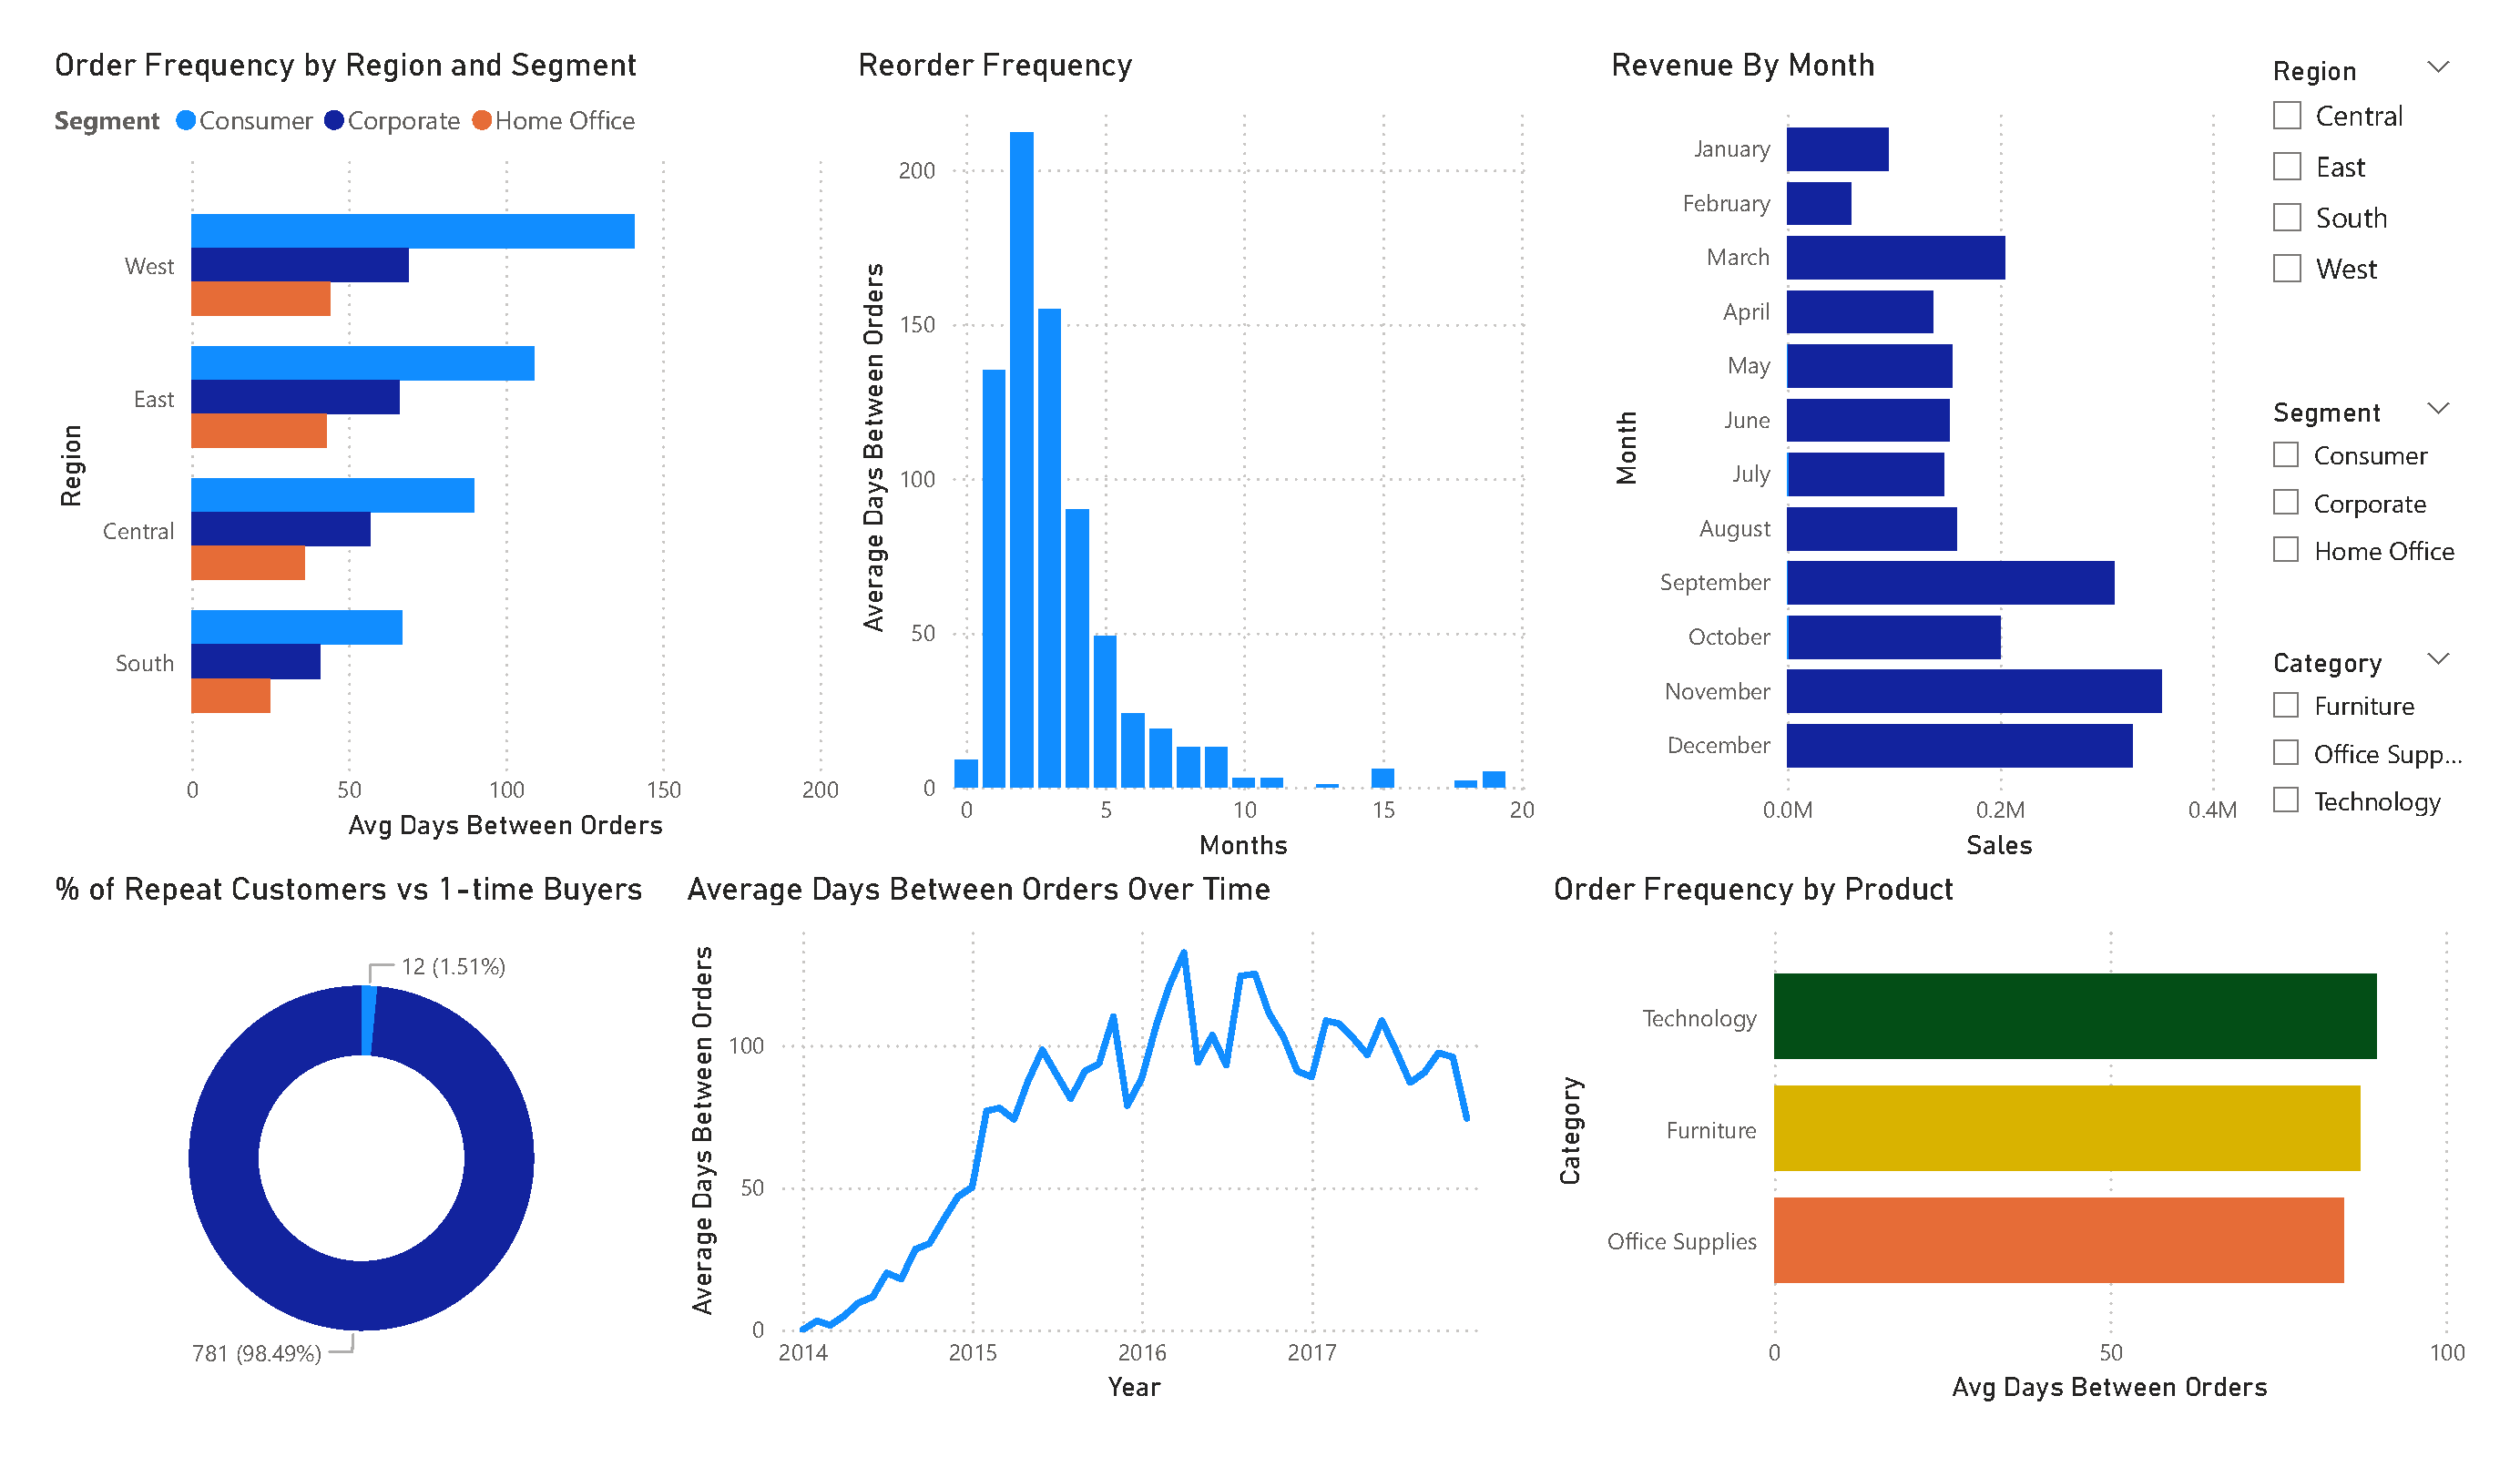

What the dashboard file says about the page in this screenshot:
{"tool":"powerbi","page":{"name":"Retention Analysis","canvas":[1280,720],"ordinal":1},"visuals":[{"type":"clusteredBarChart","title":"Order Frequency by Region and Segment","fields":{"Category":["superstore customers.Region"],"Y":["CountNonNull(Customer Reorder Frequency Analysis Table.Avg_Days_Between_Orders)"],"Series":["superstore customers.Segment"]},"box":[0,0,422.7,424.5],"z":0},{"type":"clusteredColumnChart","title":"Reorder Frequency","fields":{"Y":["Count(Customer Reorder Frequency Analysis Table.Avg_Days_Between_Orders)"],"Category":["Customer Reorder Frequency Analysis Table.Calculated Bins"]},"box":[422.7,0,367.2,434.3],"z":1000},{"type":"donutChart","title":"% of Repeat Customers vs 1-time Buyers","fields":{"Category":["Customer Classification for each Customer.Customer_Type"],"Y":["Customer Classification for each Customer.TotalOneTimeBuyers","Customer Classification for each Customer.TotalRepeatCustomer"]},"box":[0,434.3,333.1,285.7],"z":2000},{"type":"lineChart","title":"Average Days Between Orders Over Time","fields":{"Category":["vw_enhanceddaysbetweenorders.Order_Date.Variation.Date Hierarchy.Year","vw_enhanceddaysbetweenorders.Order_Date.Variation.Date Hierarchy.Month"],"Y":["Avg(vw_enhanceddaysbetweenorders.Days_Between_Orders)"]},"box":[333.1,434.3,434.3,285.7],"z":3000},{"type":"clusteredBarChart","title":"Order Frequency by Product","fields":{"Category":["vw_enhanceddaysbetweenorders.Category"],"Y":["Avg(vw_enhanceddaysbetweenorders.Days_Between_Orders)"]},"box":[789.9,434.3,489.9,285.7],"z":4000},{"type":"barChart","title":"Revenue By Month","fields":{"Category":["superstore orders.Order_Date.Variation.Date Hierarchy.Month"],"Y":["Sum(superstore orders.Sales)"],"Series":["Customer Classification for each Customer.Customer_Type"]},"box":[820.3,0,340.3,434.3],"z":5000},{"type":"slicer","fields":{"Values":["superstore customers.Region"]},"box":[1161.2,0,118.8,180.1],"z":6000},{"type":"slicer","fields":{"Values":["superstore customers.Segment"]},"box":[1161.5,180,118.2,119.1],"z":7000},{"type":"slicer","fields":{"Values":["superstore products.Category"]},"box":[1160.6,311.6,119.1,122.7],"z":8000}]}

Visuals, with their boxes in screenshot pixels (x1, y1, x2, y2):
"Order Frequency by Region and Segment" clusteredBarChart: bbox(46, 46, 848, 851)
"Reorder Frequency" clusteredColumnChart: bbox(848, 46, 1545, 870)
"% of Repeat Customers vs 1-time Buyers" donutChart: bbox(46, 870, 678, 1411)
"Average Days Between Orders Over Time" lineChart: bbox(678, 870, 1502, 1411)
"Order Frequency by Product" clusteredBarChart: bbox(1545, 870, 2474, 1411)
"Revenue By Month" barChart: bbox(1602, 46, 2248, 870)
slicer - superstore customers.Region: bbox(2249, 46, 2474, 387)
slicer - superstore customers.Segment: bbox(2250, 387, 2474, 613)
slicer - superstore products.Category: bbox(2248, 637, 2474, 870)
